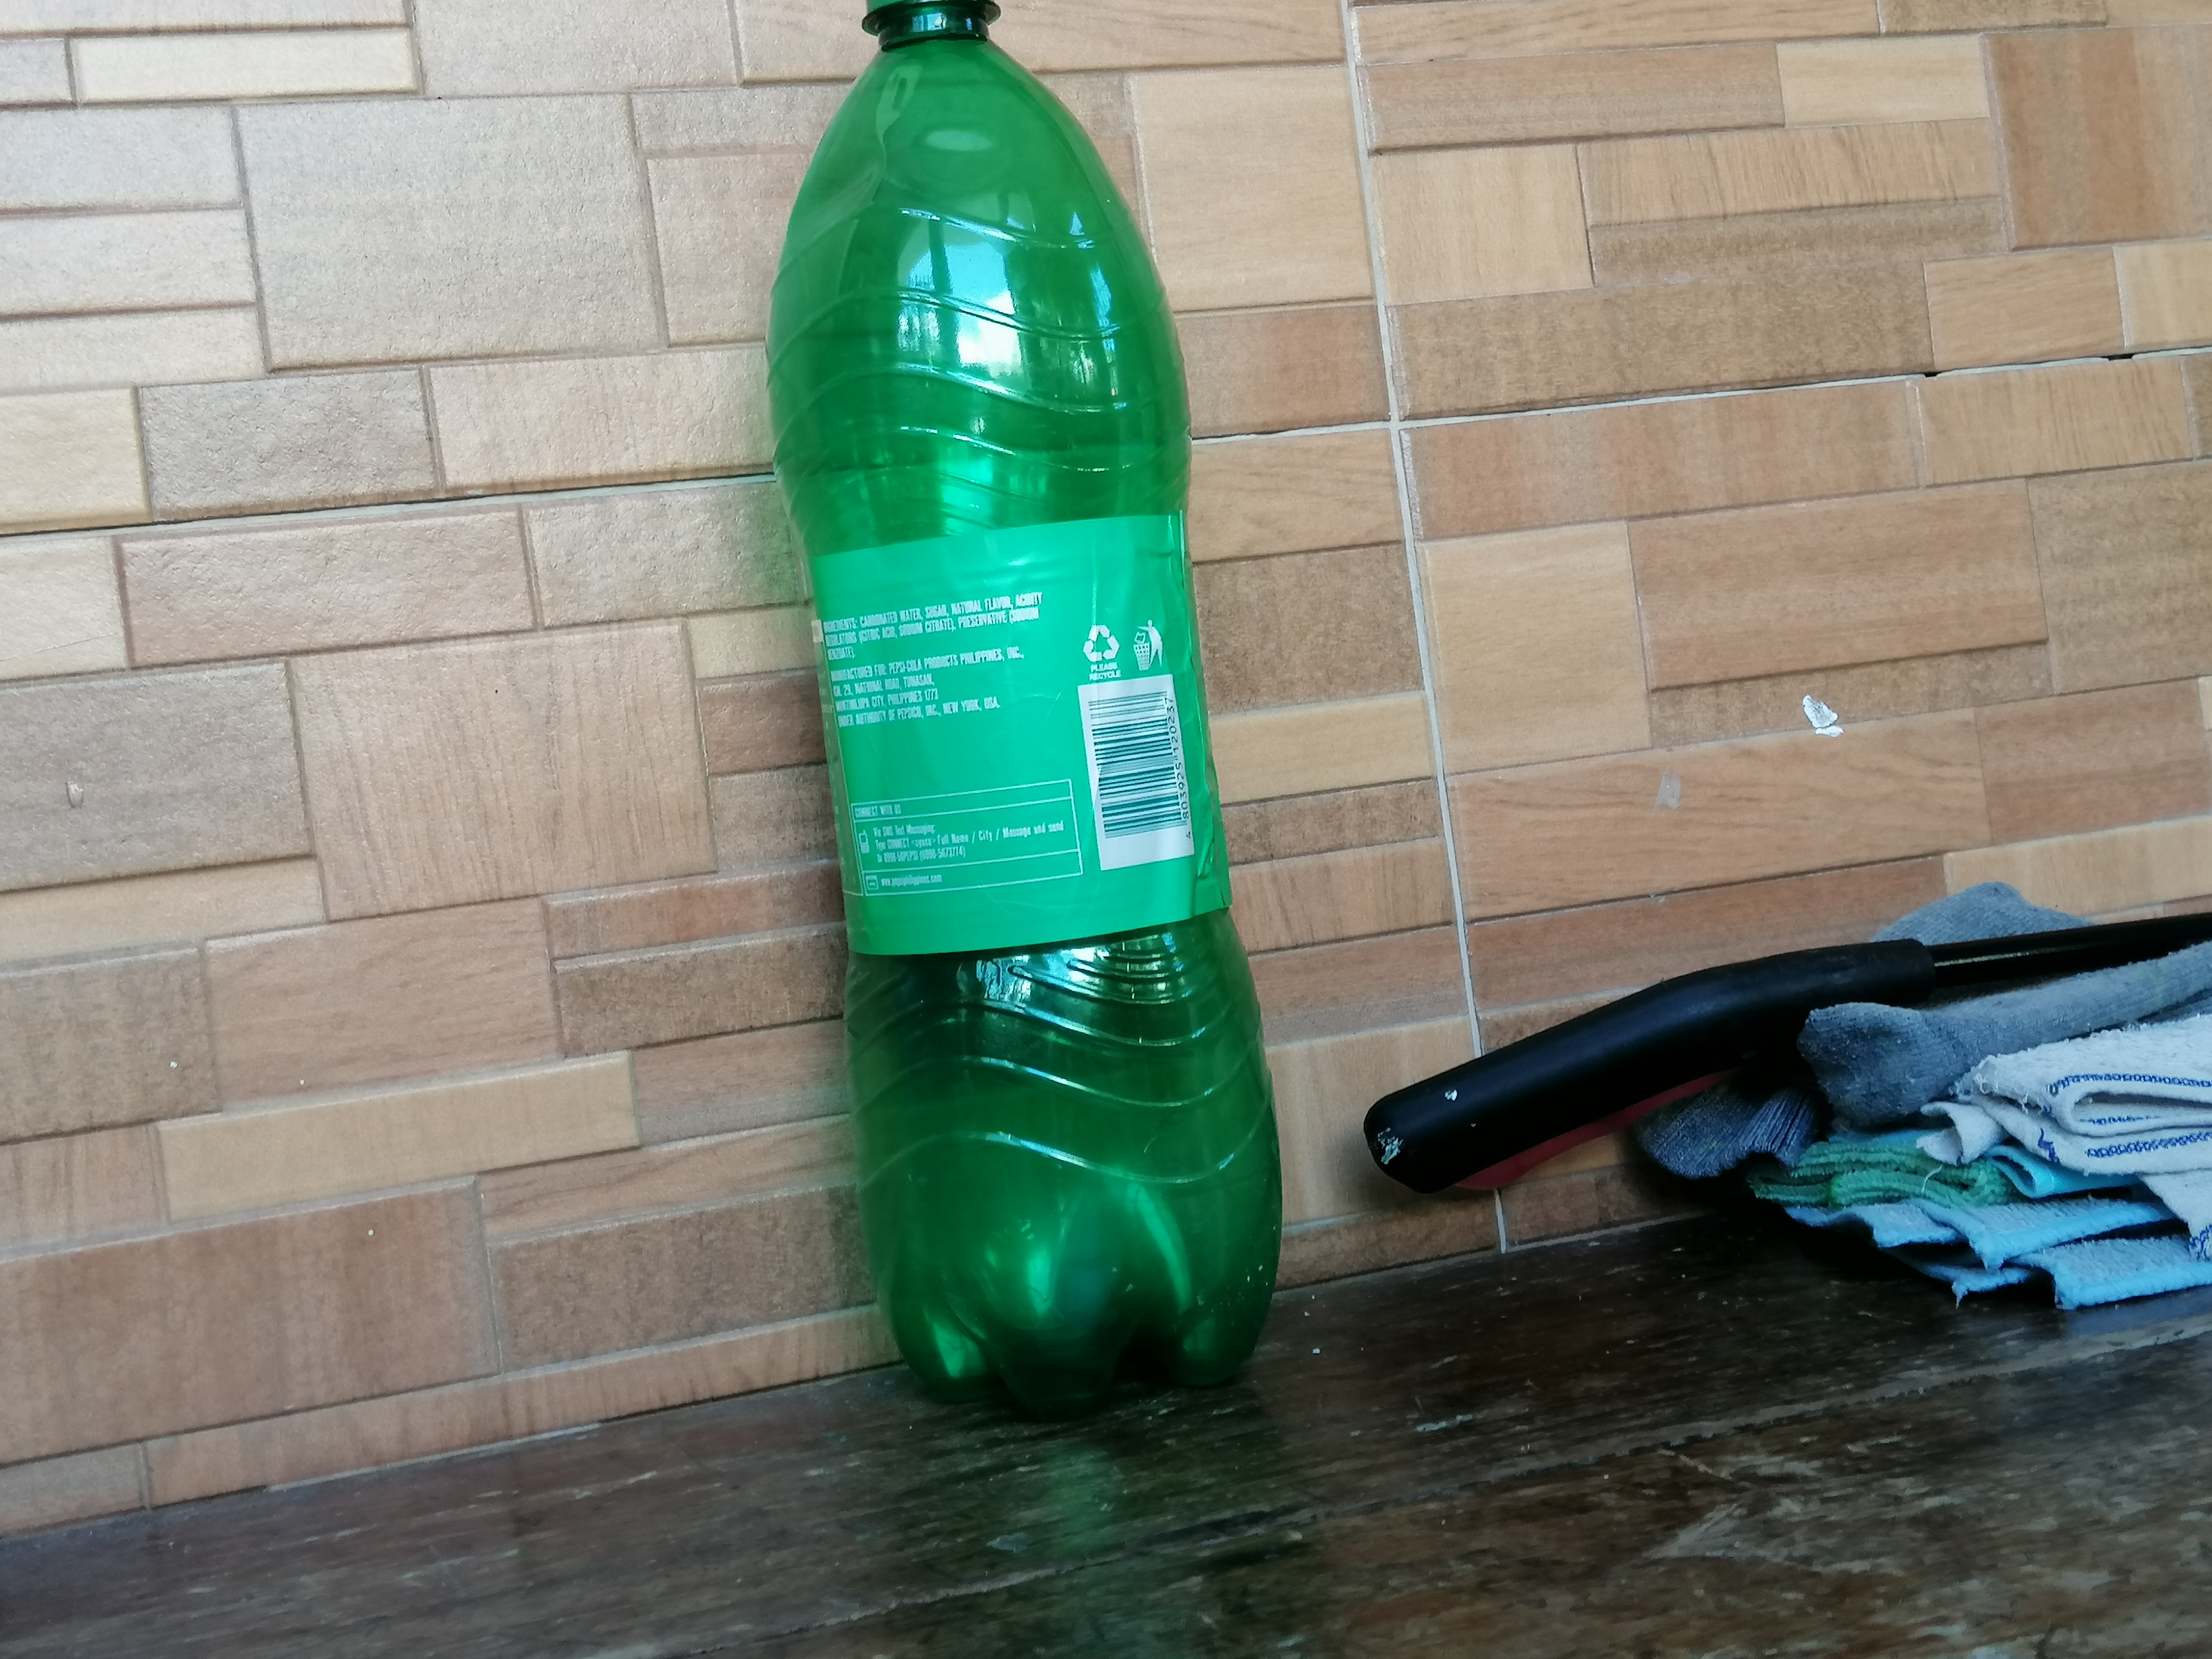bottle: (765, 3, 1282, 1412)
